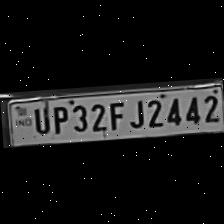2: (86, 98, 106, 132), (142, 94, 162, 128), (199, 90, 219, 122)
3: (66, 100, 88, 133)
4: (161, 93, 181, 126), (180, 92, 200, 124)
F: (104, 97, 124, 130)
J: (124, 96, 144, 129)
P: (47, 102, 68, 134)
U: (28, 104, 49, 134)
